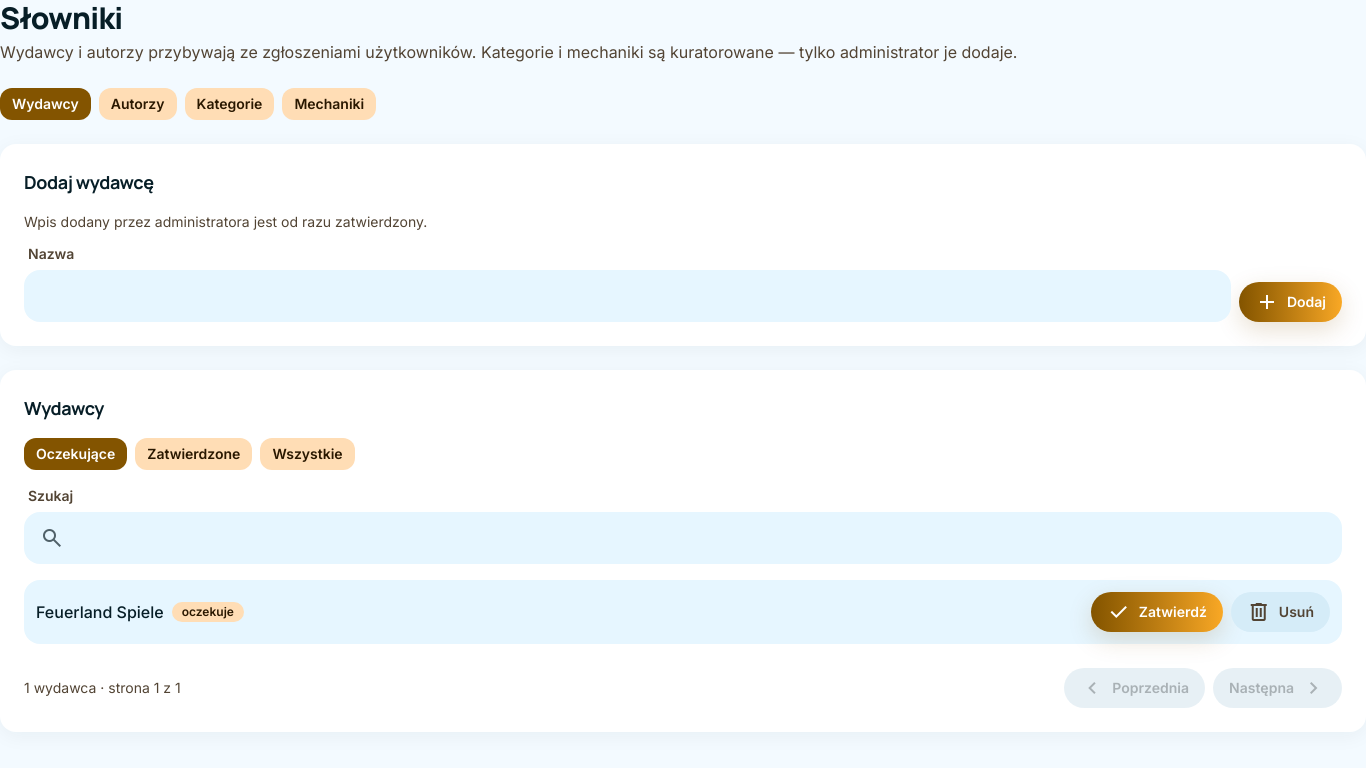
Test: AdminTaxonomyPage — wydawcy (słownik rosnący) › usunięcie wpisu w użyciu mówi, że trzeba go najpierw odpiąć
Expected: the text "Feuerland Spiele" is shown, [36, 600, 164, 624]
Step 1. Click the button "Usuń" → point(1280, 612), box [1231, 592, 1330, 632]
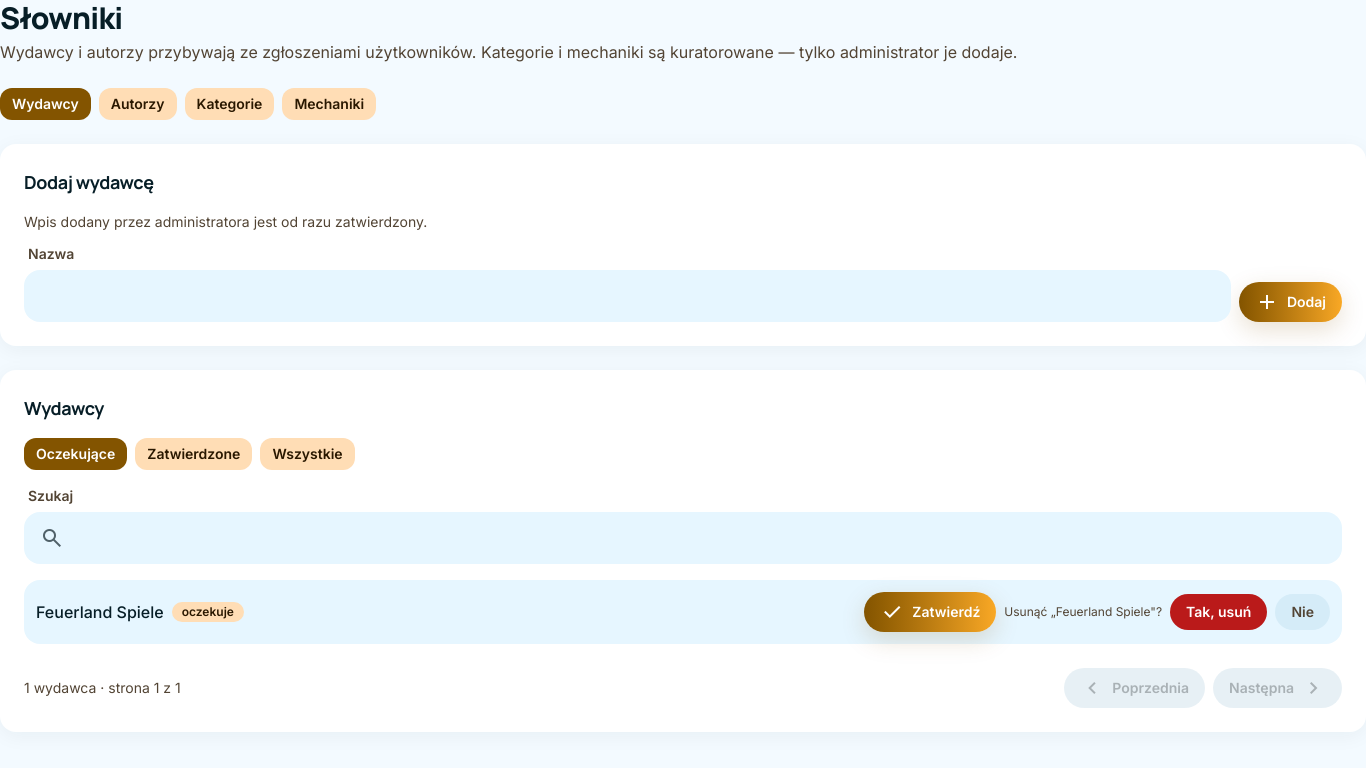
Step 2. Click the button "Tak, usuń" → point(1219, 612), box [1170, 594, 1267, 630]
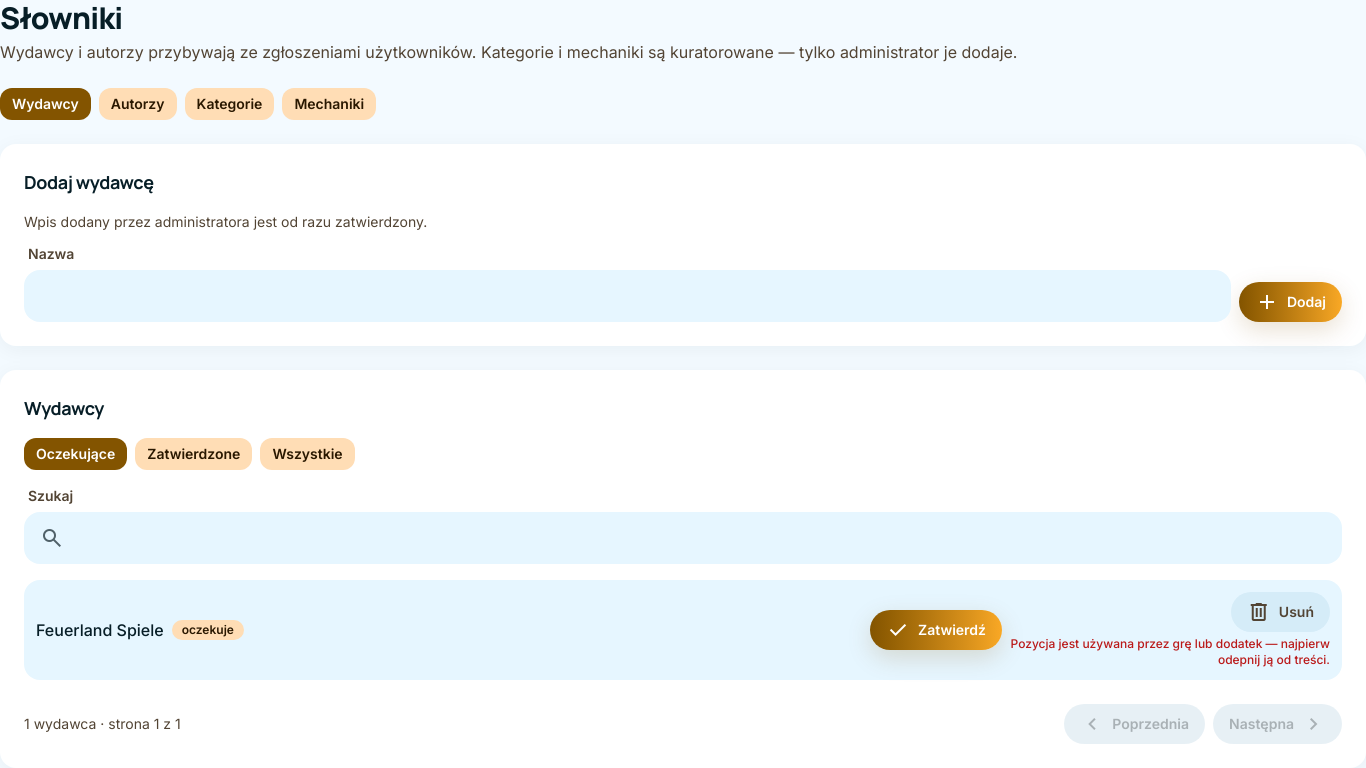
Expected: the text "Feuerland Spiele" is shown, [36, 618, 164, 642]
Expected: the text "Pozycja jest używana przez grę lub dodatek — najpierw odepnij ją od treści." is shown, [1010, 636, 1330, 668]
